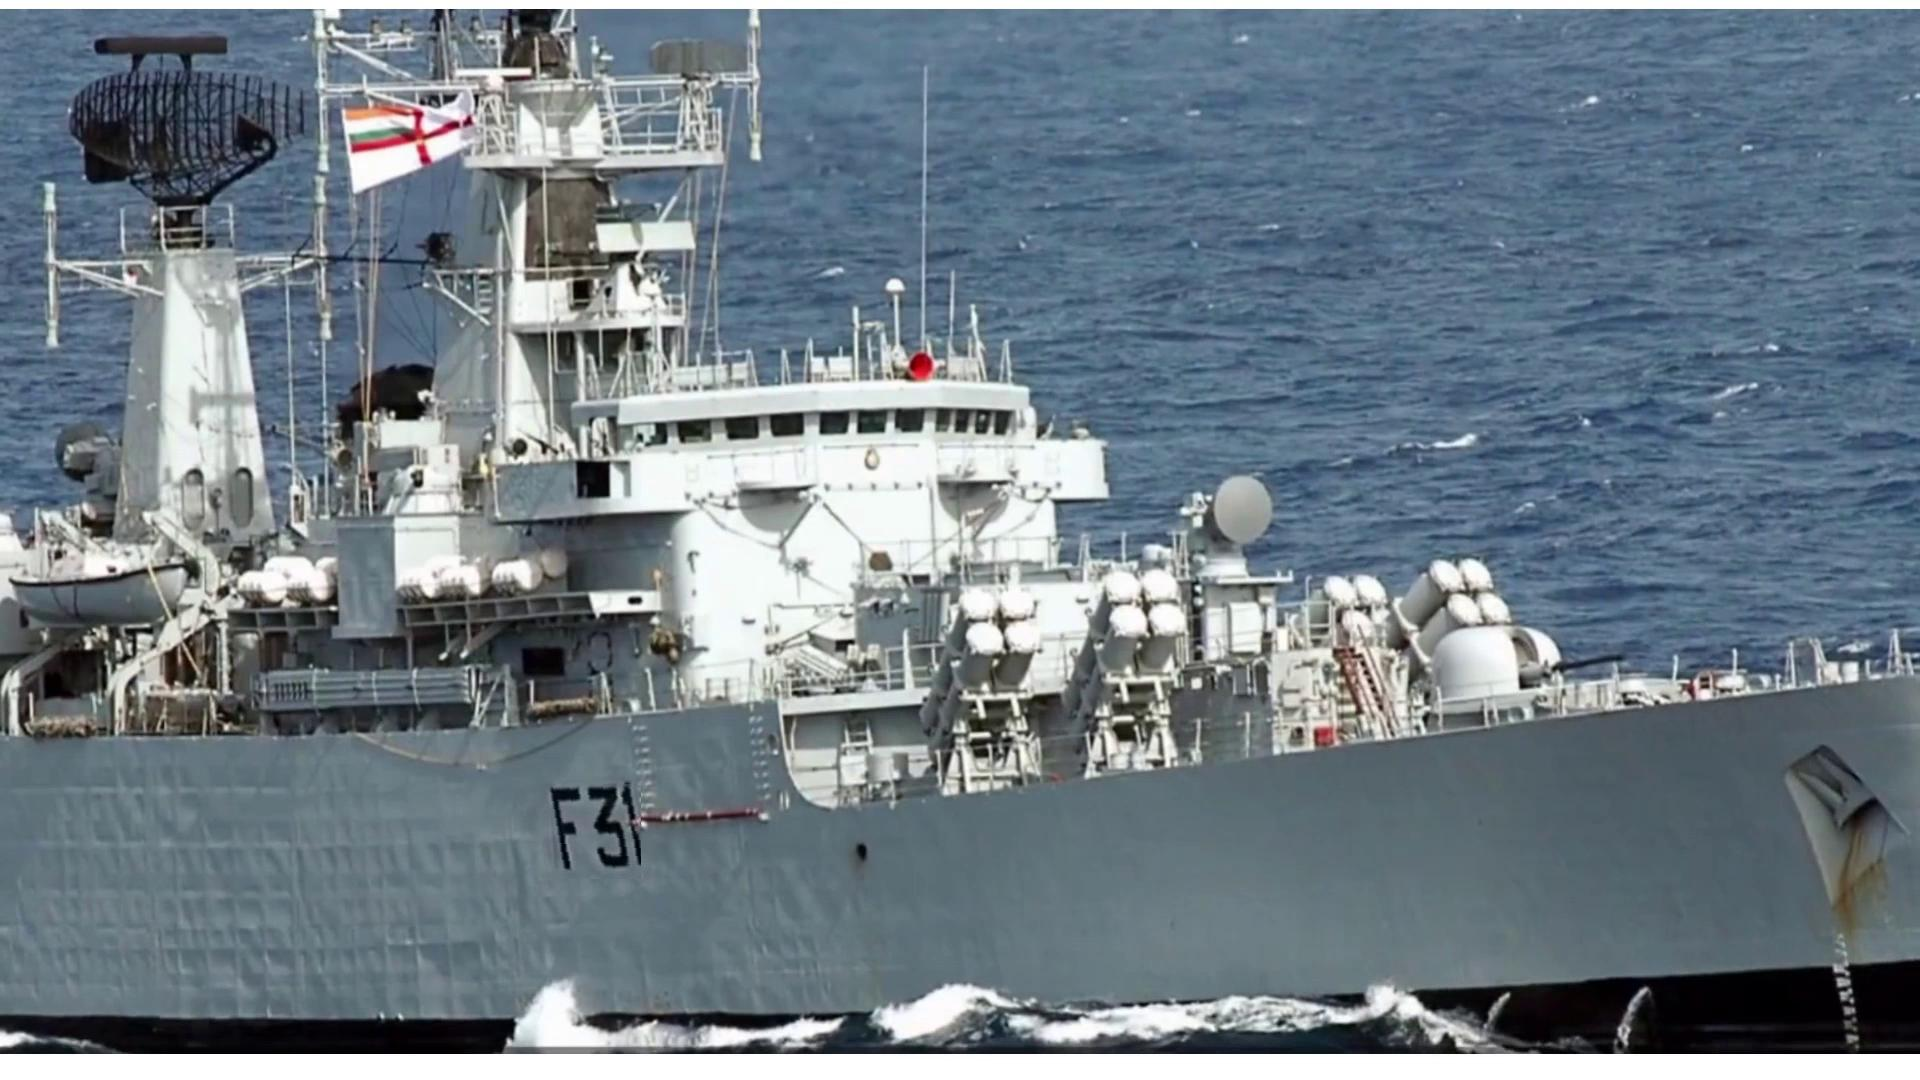OCR: (543, 779, 641, 880)
